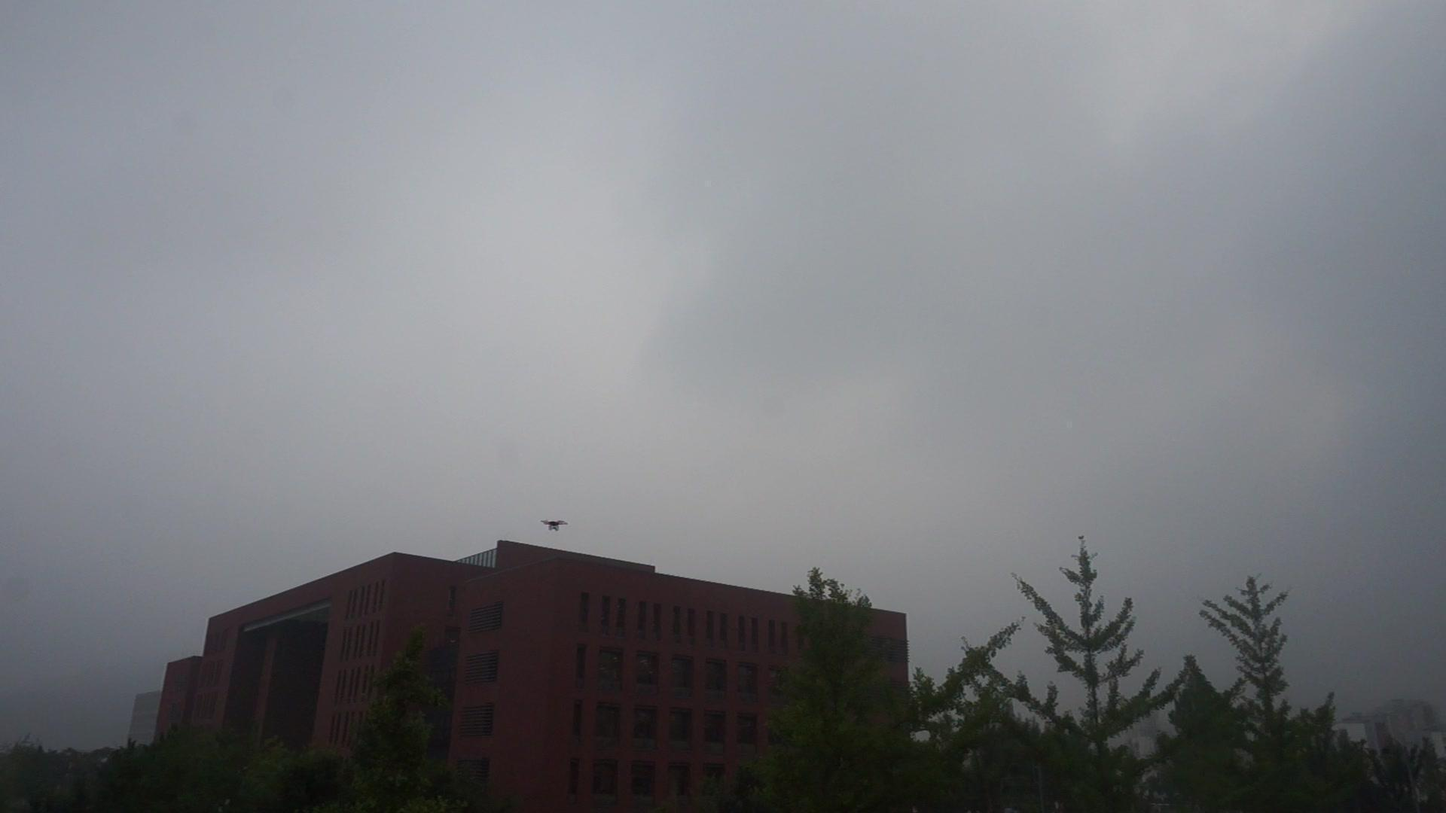UAV: (540, 520, 569, 532)
